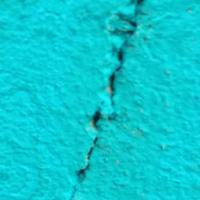crack: (55, 3, 152, 189)
